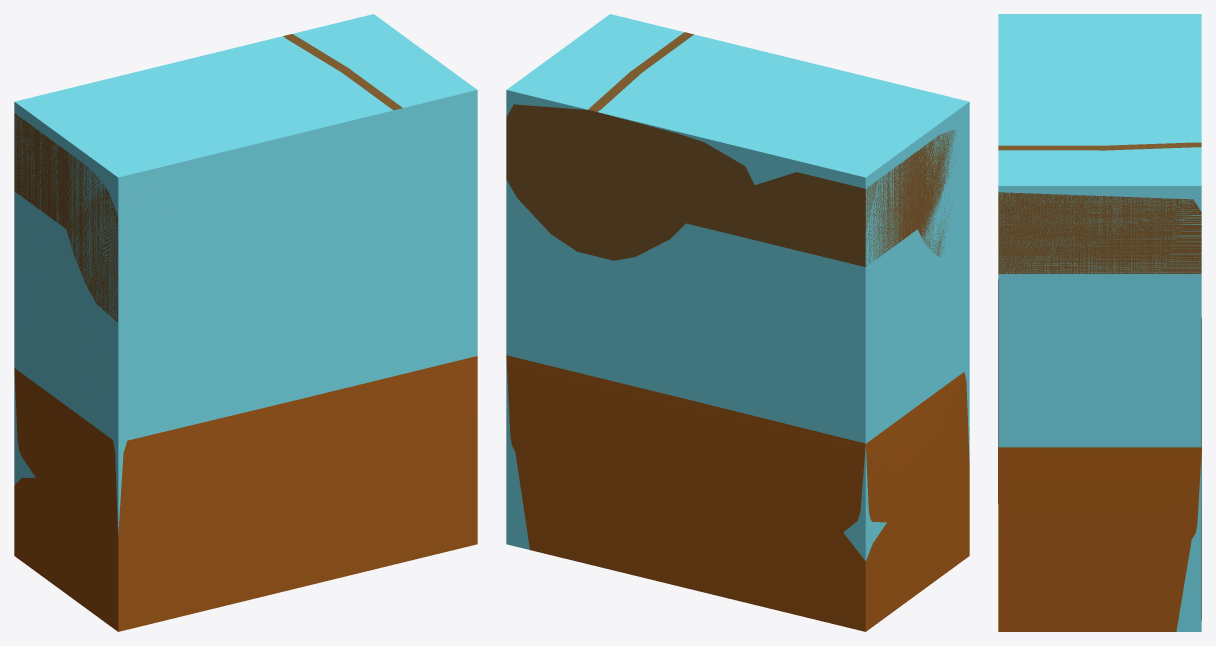
File: PBOX2_Mud_02.FBX
The picture shows the model from 3 angles, left to right: view 1: azimuth 30°, elevation 25°; view 2: azimuth 150°, elevation 25°; view 3: azimuth 270°, elevation 25°; orthographic projection.
Visible parts, largest first — view 1: PBOX2_Mud_02, PBOX1_SUB_TAB_MUD_008, PBOX2_SUB_Mud_02; view 2: PBOX2_Mud_02, PBOX1_SUB_TAB_MUD_008, PBOX2_SUB_Mud_02; view 3: PBOX2_Mud_02, PBOX1_SUB_TAB_MUD_008, PBOX2_SUB_Mud_02.
Part boxes in pixels (box(x1,y1,x2,y2)): PBOX2_Mud_02: box(14, 14, 477, 535); PBOX1_SUB_TAB_MUD_008: box(14, 356, 477, 631); PBOX2_SUB_Mud_02: box(14, 34, 402, 322); PBOX2_Mud_02: box(506, 14, 969, 561); PBOX1_SUB_TAB_MUD_008: box(506, 355, 969, 631); PBOX2_SUB_Mud_02: box(506, 32, 957, 266); PBOX2_Mud_02: box(998, 14, 1201, 631); PBOX1_SUB_TAB_MUD_008: box(998, 279, 1201, 631); PBOX2_SUB_Mud_02: box(998, 142, 1201, 273).
Bounding box in the file's own units: 12 × 14.51 × 6.
